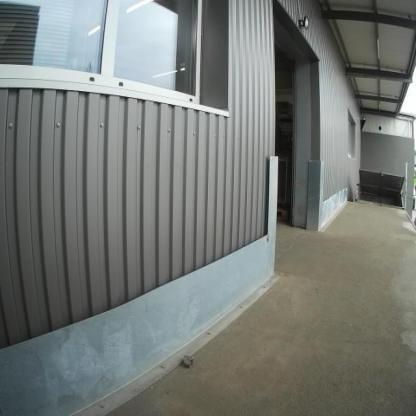pallet: (274, 207, 291, 224)
